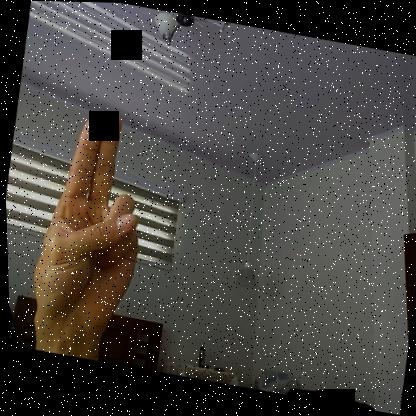U: (17, 101, 160, 355)
